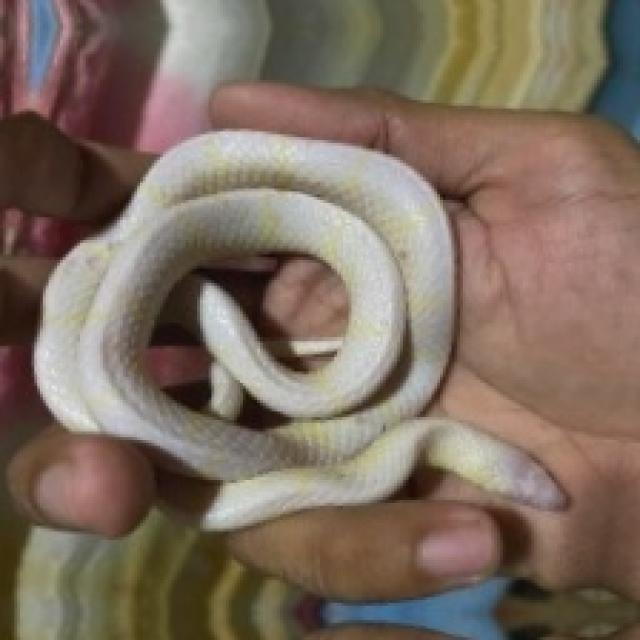gunthers philippine shrub snake: (34, 131, 563, 529), (140, 249, 349, 414)
